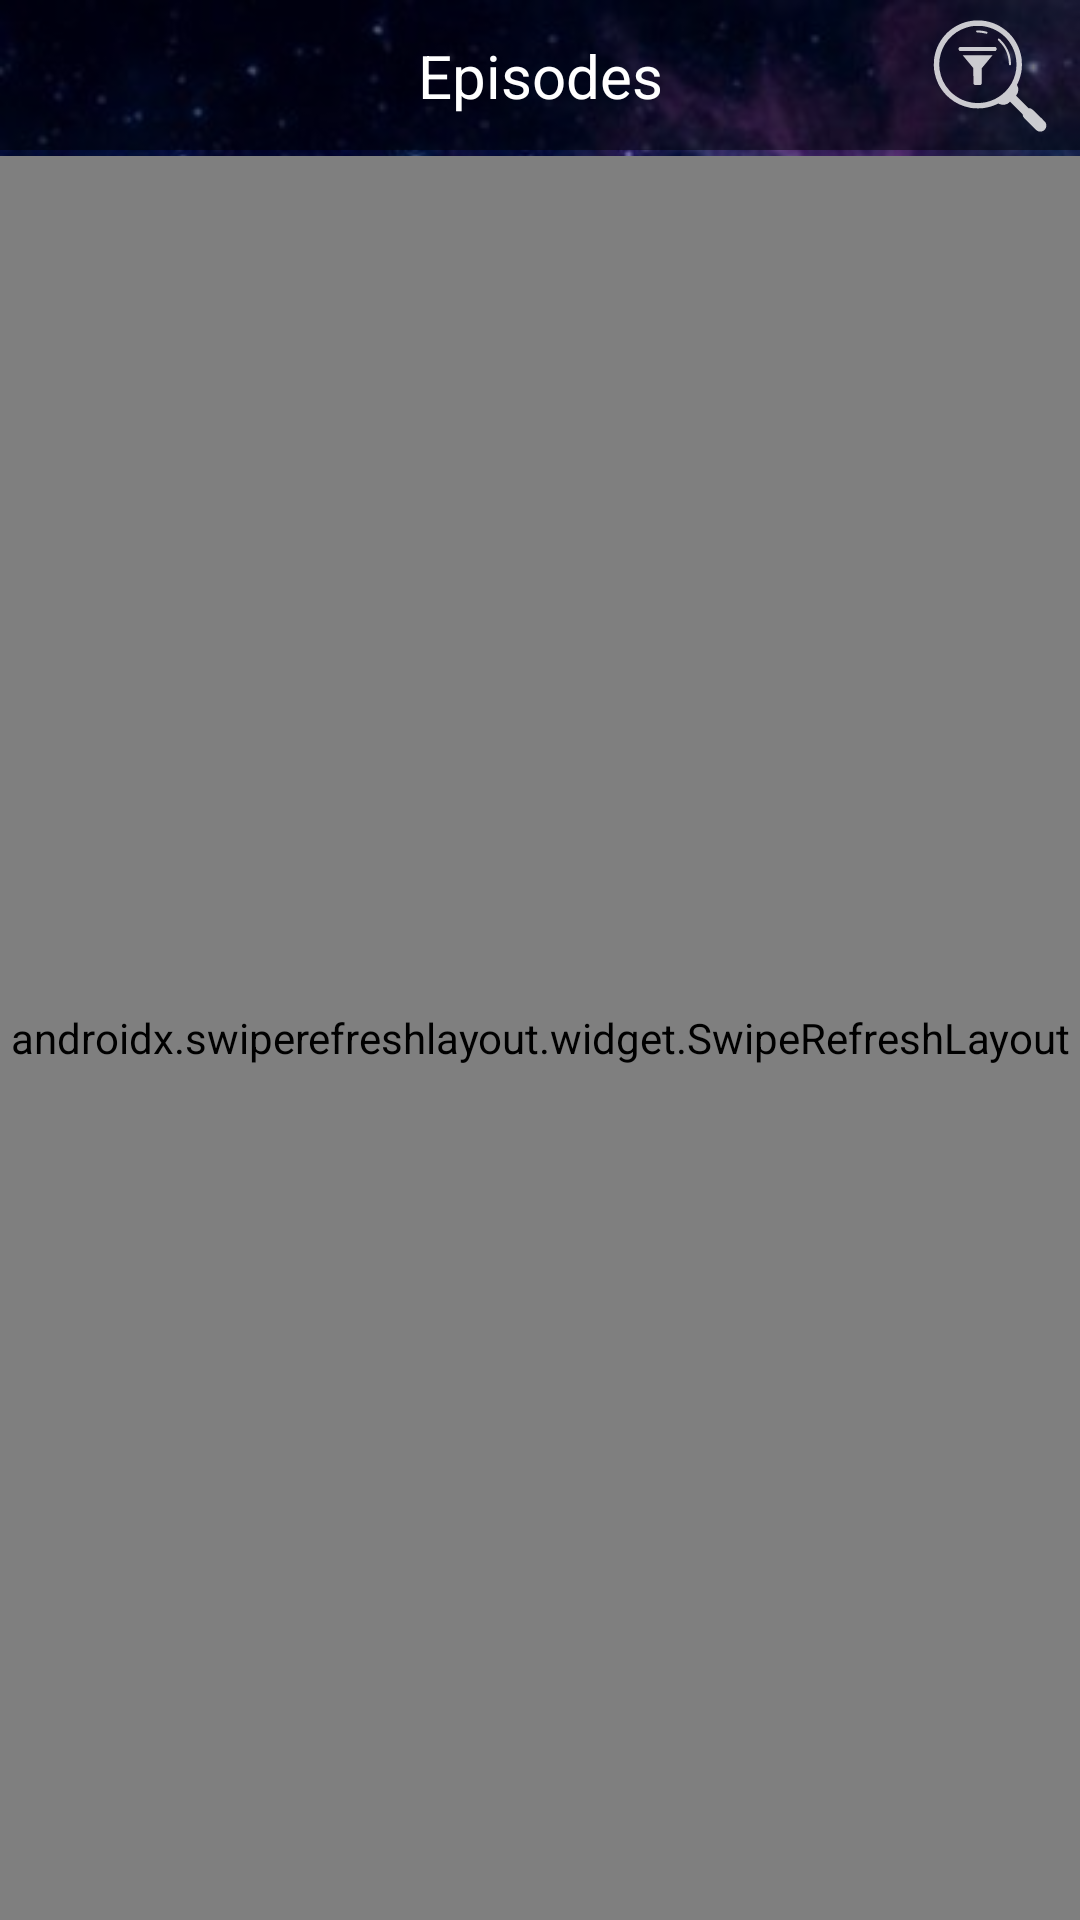

Icons on this 1080w x 1920h Android screen, each with its box as [left=x1, top=y1, right=x2, bottom=y2]:
filter: [left=933, top=20, right=1047, bottom=132]
